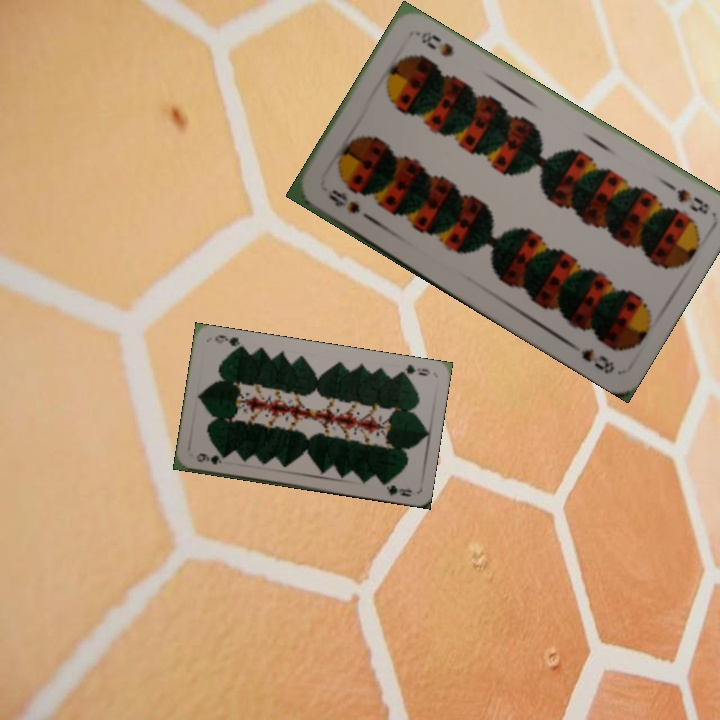G9: (393, 360, 433, 379), (192, 449, 224, 467)
S8: (661, 178, 712, 218), (324, 185, 363, 217)
